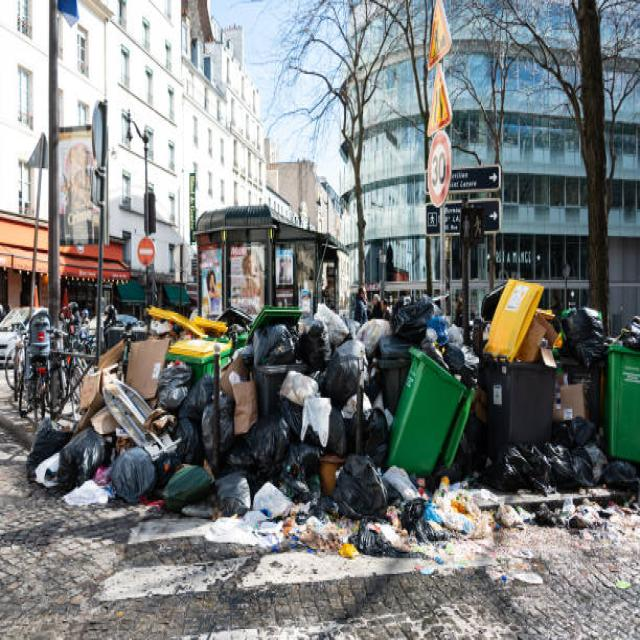cardboard: (87, 346, 168, 403)
trash: (175, 292, 618, 528)
